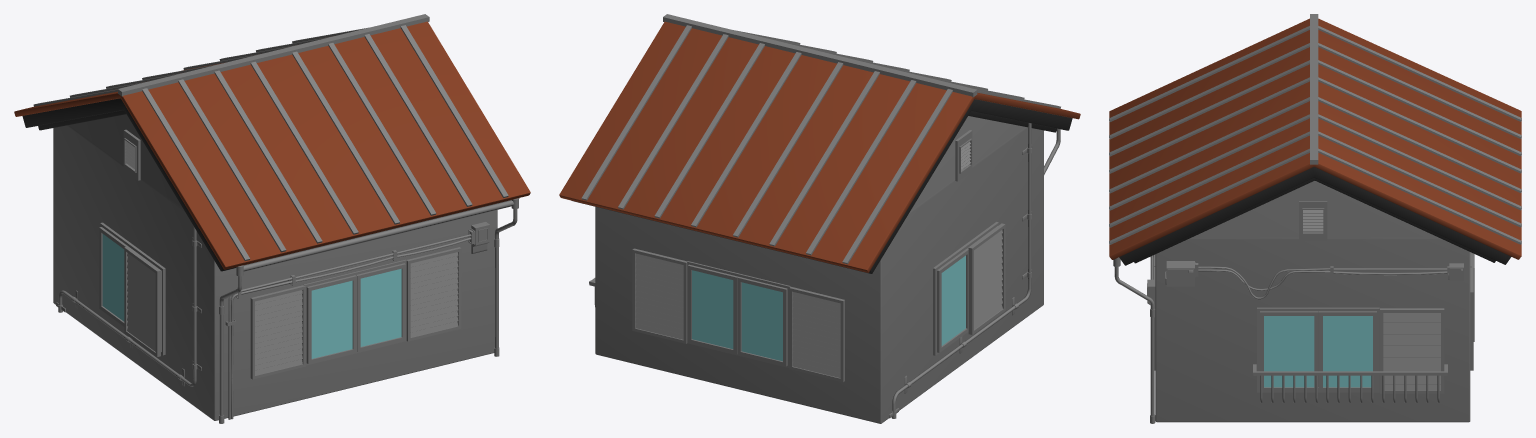
The model's file is SM_house_residential_attachment_01.fbx.
The picture shows the model from 3 angles, left to right: view 1: azimuth 30°, elevation 25°; view 2: azimuth 150°, elevation 25°; view 3: azimuth 270°, elevation 25°; orthographic projection. The views are drawn at different scales.
Visible parts, largest first — view 1: Object32585; view 2: Object32585; view 3: Object32585.
Boxes of the visible parts, x1,y1,x2,y2 form: Object32585: [14, 14, 530, 423]; Object32585: [559, 14, 1080, 423]; Object32585: [1109, 14, 1521, 423].
Bounding box in the file's own units: 254 × 214 × 297.
